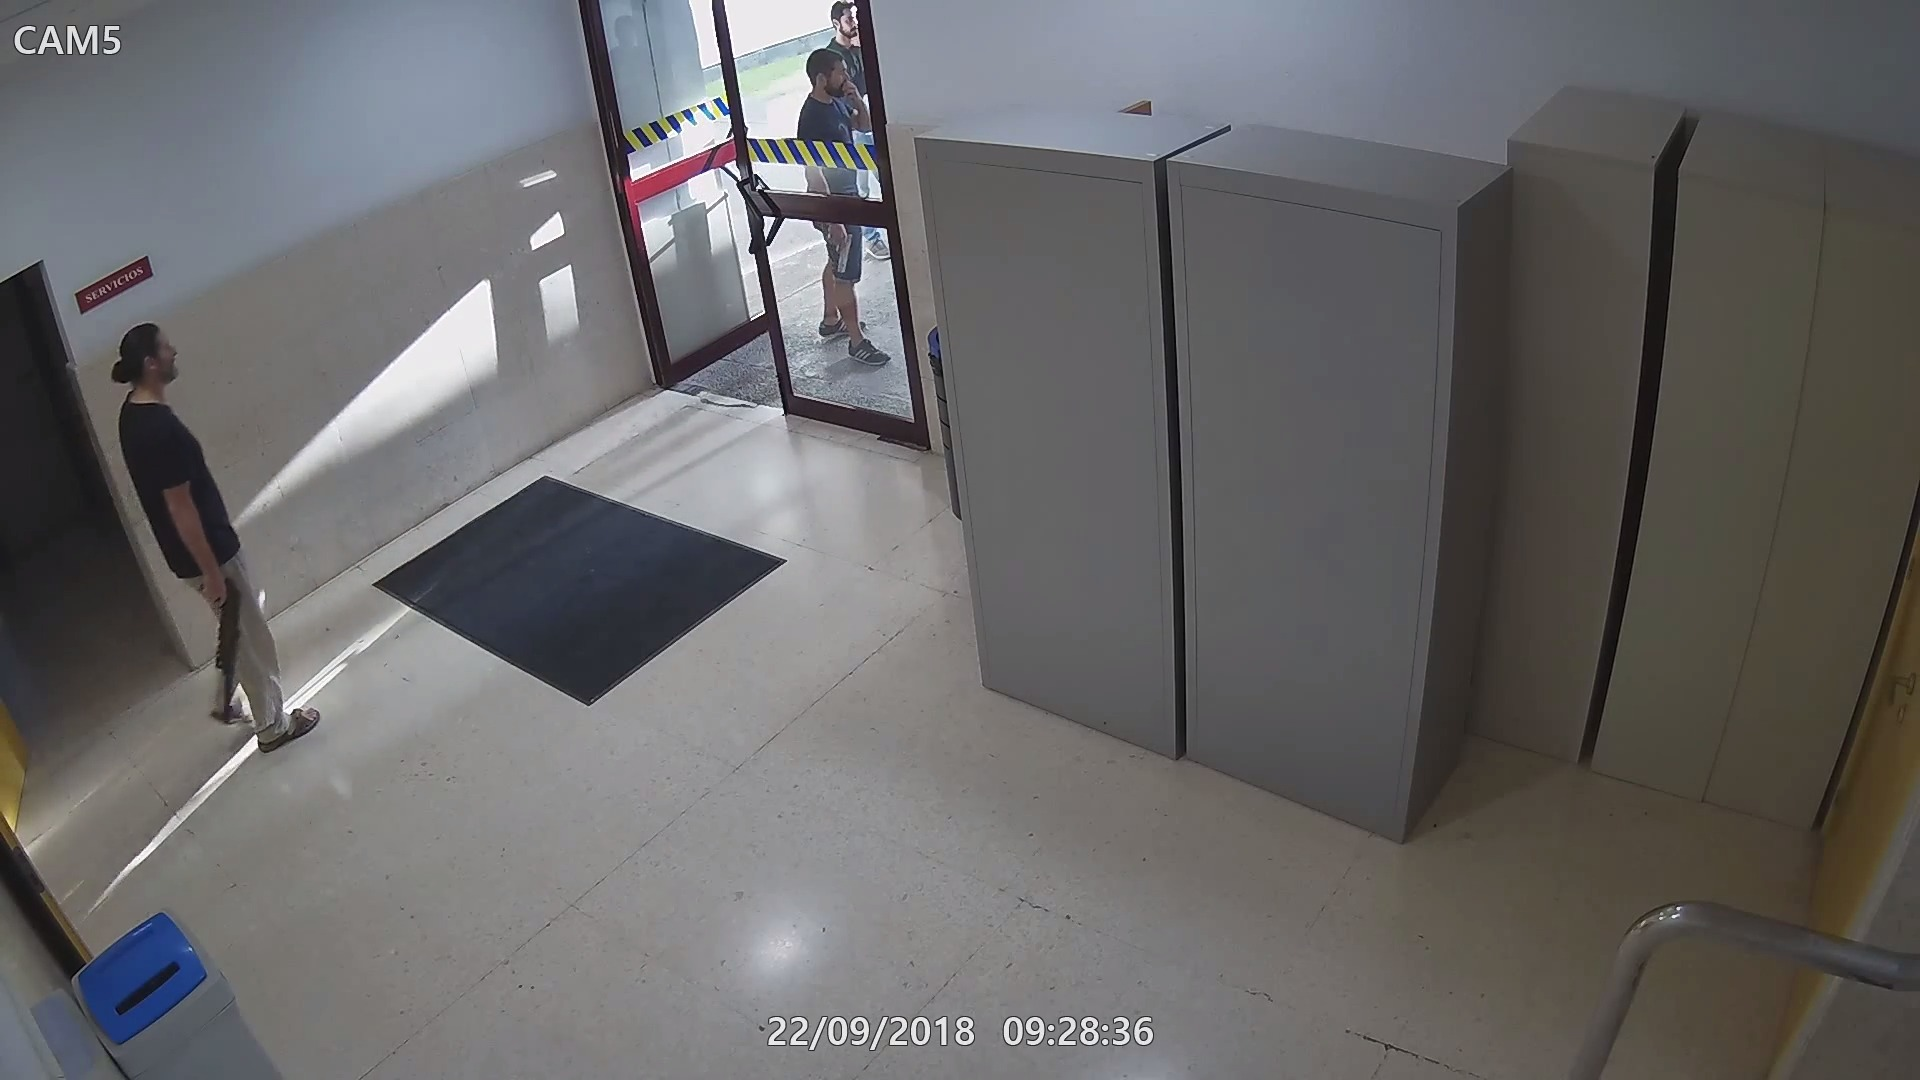Handgun: (822, 227, 856, 277)
Short_rifle: (195, 574, 247, 725)
